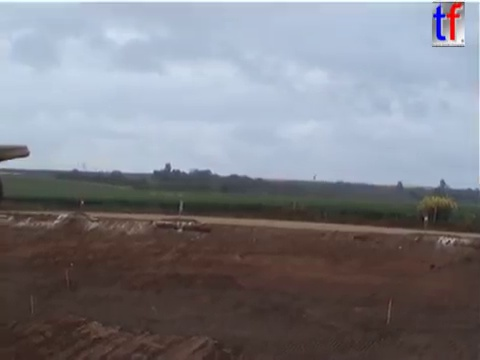truck: (1, 141, 32, 210)
